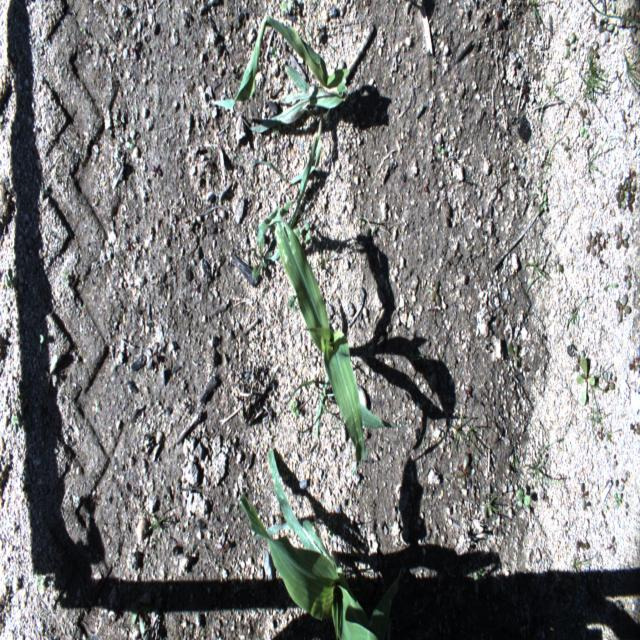crop: (255, 201, 413, 478), (212, 13, 349, 261), (239, 447, 403, 639)
weed: (277, 379, 333, 432), (579, 39, 611, 113), (522, 442, 562, 489), (142, 511, 180, 560), (592, 362, 616, 420), (522, 236, 546, 293), (294, 397, 331, 433), (588, 0, 640, 23), (310, 234, 340, 270), (567, 290, 588, 341), (575, 356, 595, 406), (444, 418, 468, 457), (544, 126, 564, 172), (462, 418, 481, 464), (590, 403, 611, 443), (482, 491, 502, 528), (542, 69, 564, 101), (252, 233, 266, 281), (572, 553, 591, 588), (588, 140, 607, 173), (624, 48, 640, 86), (456, 452, 472, 488), (292, 220, 312, 246), (131, 600, 145, 636), (615, 294, 631, 324), (426, 279, 442, 308), (604, 424, 622, 449), (145, 341, 158, 373), (598, 18, 614, 41), (615, 223, 629, 249), (507, 342, 520, 369), (356, 214, 374, 233), (628, 4, 639, 32), (514, 487, 530, 506), (579, 482, 589, 511), (528, 0, 540, 24), (578, 105, 591, 127), (564, 33, 575, 58), (549, 254, 563, 273), (603, 369, 615, 391), (586, 231, 596, 257), (620, 6, 631, 28), (575, 349, 585, 373), (623, 265, 632, 291), (494, 5, 502, 31), (538, 193, 548, 213), (616, 183, 629, 198), (620, 108, 627, 134), (624, 178, 637, 192), (280, 0, 292, 15), (286, 294, 295, 314), (590, 40, 600, 58), (623, 187, 632, 206), (564, 136, 571, 159), (290, 398, 298, 418), (620, 472, 628, 491), (616, 599, 624, 618), (36, 570, 44, 588), (608, 536, 616, 554), (627, 168, 637, 182), (604, 282, 618, 292), (630, 422, 640, 436), (617, 196, 627, 209), (630, 358, 640, 371), (603, 233, 611, 249), (575, 542, 591, 550), (614, 492, 622, 507), (628, 195, 635, 212), (596, 232, 602, 250), (599, 258, 608, 270), (591, 10, 597, 28), (580, 125, 588, 138), (438, 143, 446, 156), (124, 141, 134, 151), (474, 573, 478, 596), (611, 0, 615, 12)
